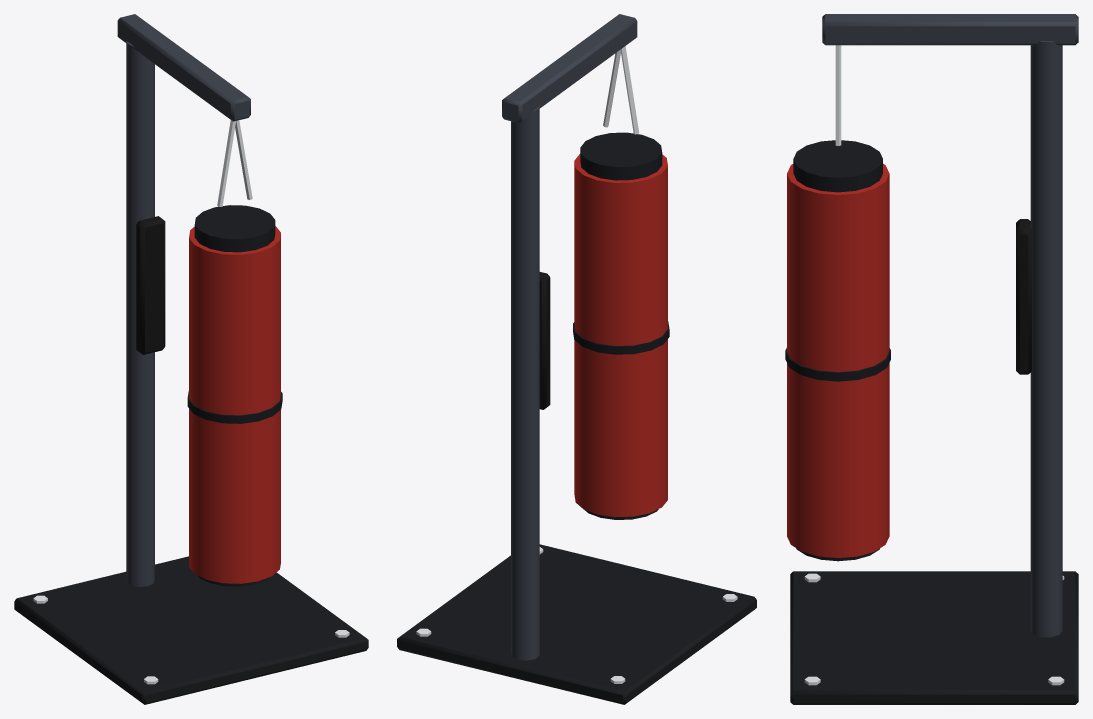
Rendered from gym_punching_bag.glb.
3 renders of one model, left to right at view 1: azimuth 30°, elevation 25°; view 2: azimuth 150°, elevation 25°; view 3: azimuth 270°, elevation 25°, orthographic. The views are drawn at different scales.
Visible parts, largest first — view 1: gym_punching_bag; view 2: gym_punching_bag; view 3: gym_punching_bag.
Part boxes in pixels (x1,y1,x2,y2): gym_punching_bag: [14, 14, 368, 704]; gym_punching_bag: [397, 14, 756, 704]; gym_punching_bag: [785, 14, 1078, 704].
Size of the model in its own units: 0.9 by 2.16 by 0.915.
